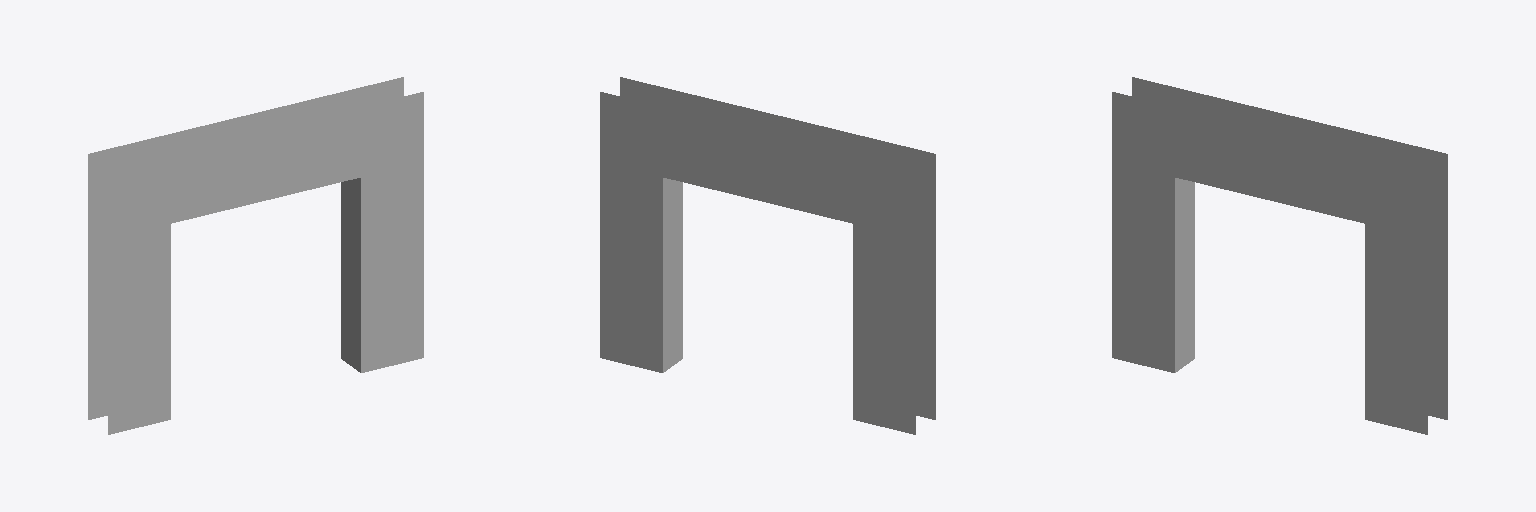
File: frontDoor.obj
3 renders of one model, left to right at view 1: azimuth 30°, elevation 25°; view 2: azimuth 150°, elevation 25°; view 3: azimuth 330°, elevation 25°, orthographic.
Visible parts, largest first — view 1: frontDoor; view 2: frontDoor; view 3: frontDoor.
Boxes of the visible parts, x1=… form: frontDoor: x1=88, y1=77, x2=423, y2=434; frontDoor: x1=600, y1=77, x2=935, y2=434; frontDoor: x1=1112, y1=77, x2=1447, y2=434.
Bounding box in the file's own units: 4.99 × 4.01 × 0.55.